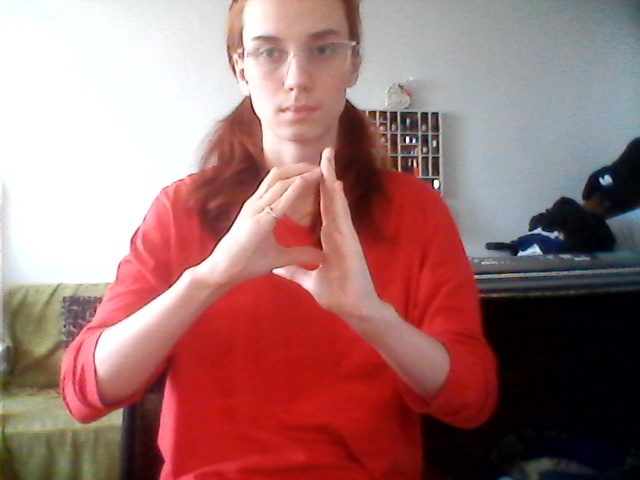d: (232, 145, 376, 318)
